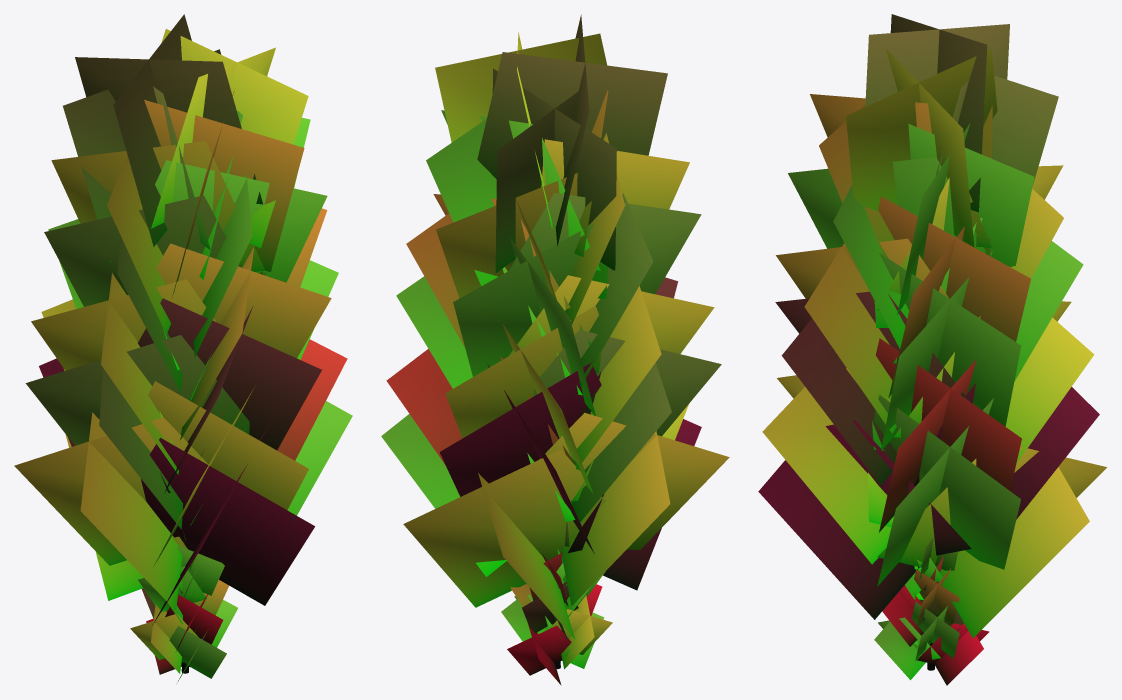
Rendered from Tree_12.fbx.
3 renders of one model, left to right at view 1: azimuth 30°, elevation 25°; view 2: azimuth 150°, elevation 25°; view 3: azimuth 270°, elevation 25°, orthographic.
Parts seen in each view (by area): view 1: Tree_12; view 2: Tree_12; view 3: Tree_12.
Boxes of the visible parts, x1,y1,x2,y2 form: Tree_12: [14, 14, 352, 681]; Tree_12: [381, 14, 729, 685]; Tree_12: [758, 14, 1106, 685].
Size of the model in its own units: 1203 by 2507 by 1231.
